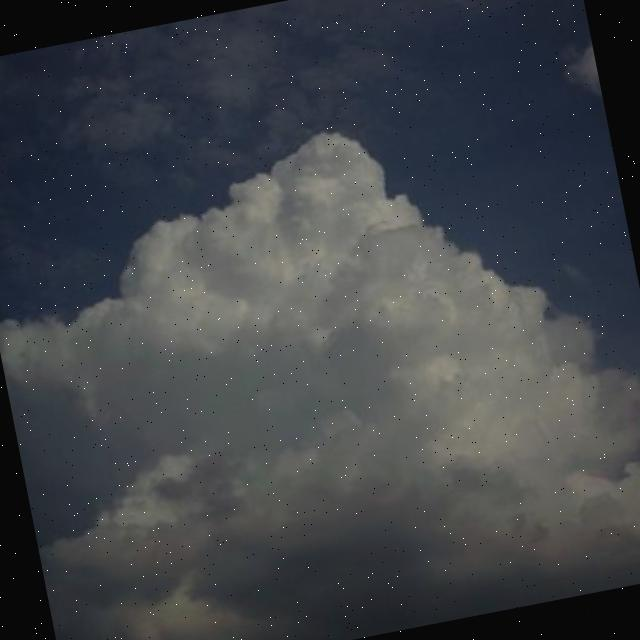Cu: (1, 21, 640, 574)
